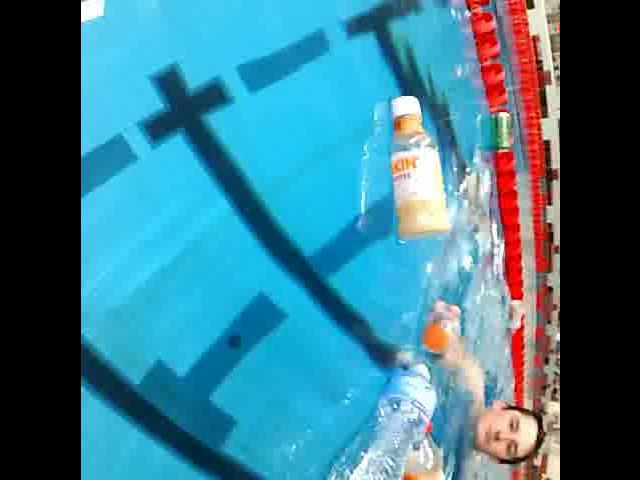Bottle: (317, 355, 437, 480), (378, 90, 458, 244), (393, 410, 445, 480)
Can: (484, 105, 516, 159)
